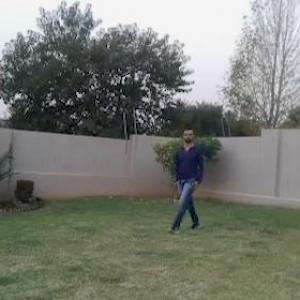follow: (174, 128, 202, 227)
